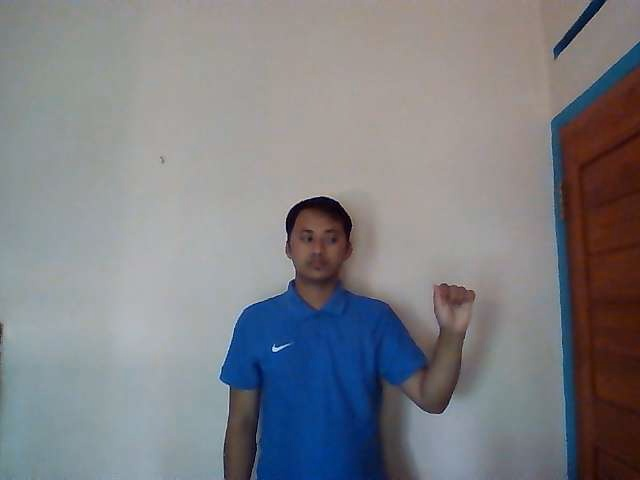A: (431, 282, 476, 330)
